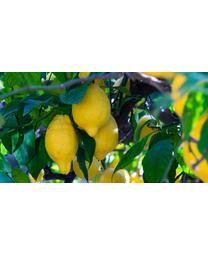lemon: (73, 83, 113, 136), (44, 113, 77, 174)
